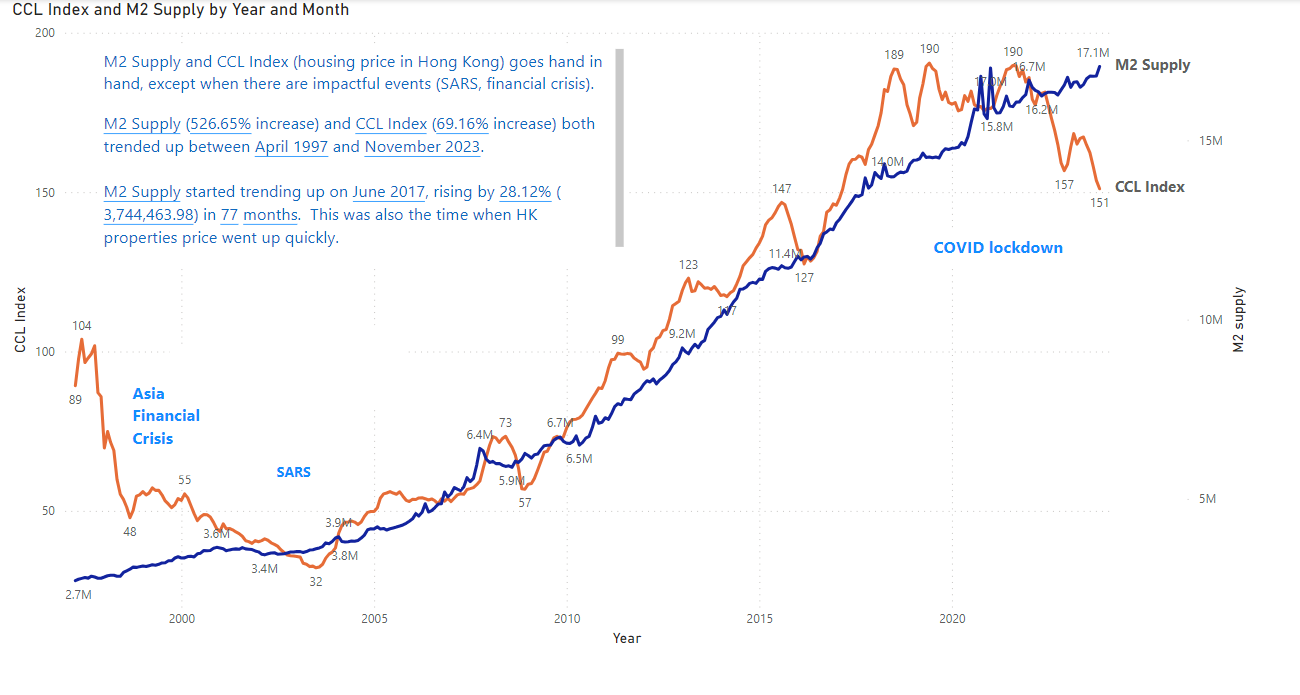

This screenshot's page, from the dashboard's own definition file:
{"tool":"powerbi","page":{"name":"Page 1","canvas":[1280,720],"ordinal":0},"visuals":[{"type":"lineChart","fields":{"Y":["Sum(1996 to 2024 CCI - by month.CCL Index)"],"Y2":["Sum(Sheet1.M2)"],"Category":["Sheet1.Date.Variation.Date Hierarchy.Year","Sheet1.Date.Variation.Date Hierarchy.Month"]},"box":[9.8,0,1216.3,638.1],"z":0},{"type":"textbox","box":[128.4,369.2,91.7,96.6],"z":1000},{"type":"textbox","box":[169.9,337.4,173.6,62.3],"z":2000},{"type":"textbox","box":[220,448.6,145.5,33],"z":3000},{"type":"textbox","box":[267.7,319,132,80.7],"z":4000},{"type":"textbox","box":[911.9,226.1,160.1,37.9],"z":5000},{"type":"textbox","box":[100.2,44,518.3,220],"z":5001}]}

Visuals, with their boxes on the page's 1280x720 design canvas (x1, y1, x2, y2). These are canvas units, not pixel positions in the 1300x695 screenshot, which may show the page scaled, cropped or inside an application window:
lineChart - Sum(1996 to 2024 CCI - by month.CCL Index) x Sum(Sheet1.M2): 10,0,1226,638
textbox: 128,369,220,466
textbox: 170,337,344,400
textbox: 220,449,366,482
textbox: 268,319,400,400
textbox: 912,226,1072,264
textbox: 100,44,618,264
